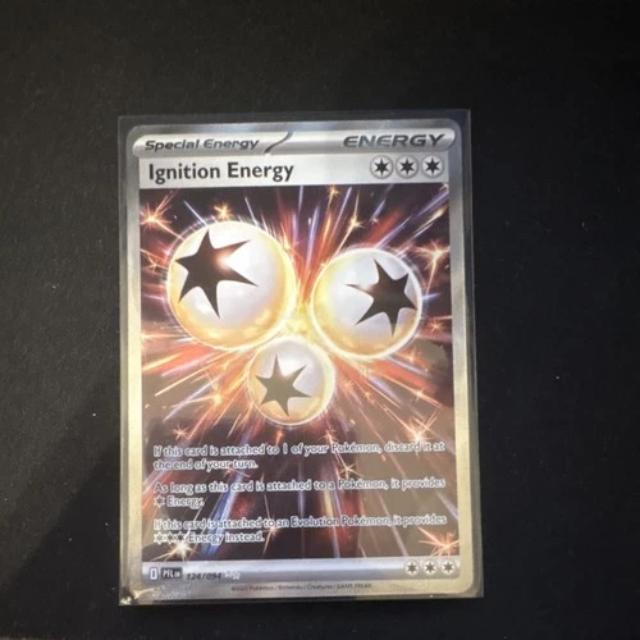Card: (119, 113, 479, 606)
Name: (144, 156, 298, 188)
